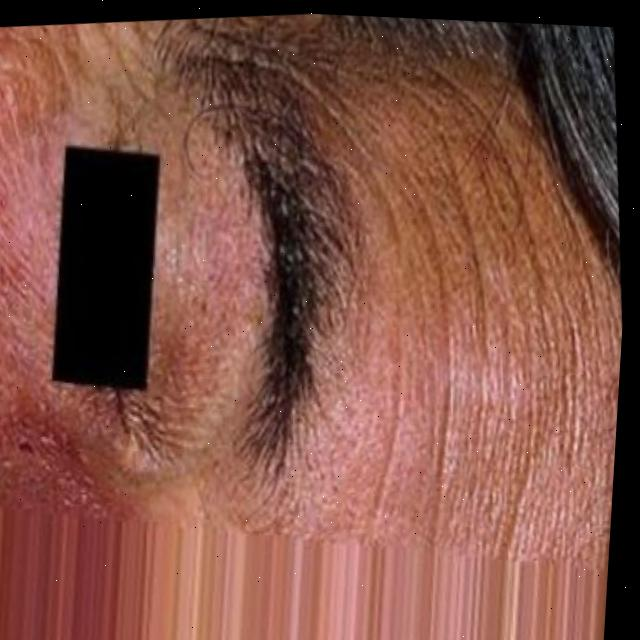Rosacea: (0, 60, 85, 392), (0, 385, 125, 529)
